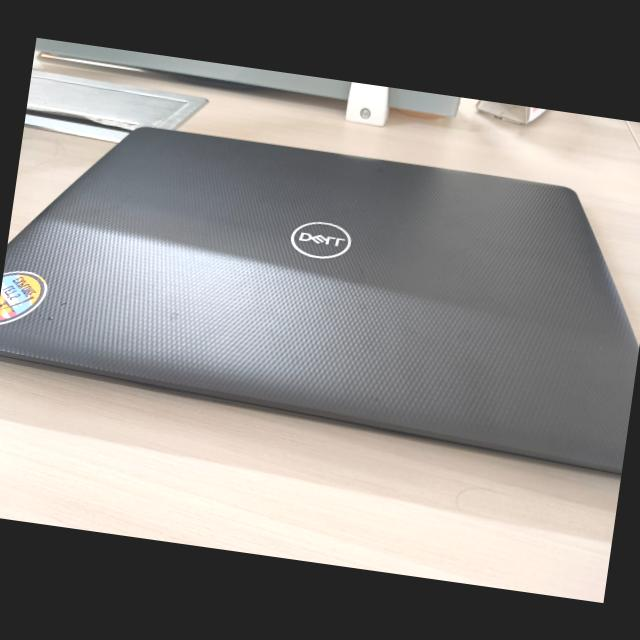laptop: (0, 109, 640, 518)
